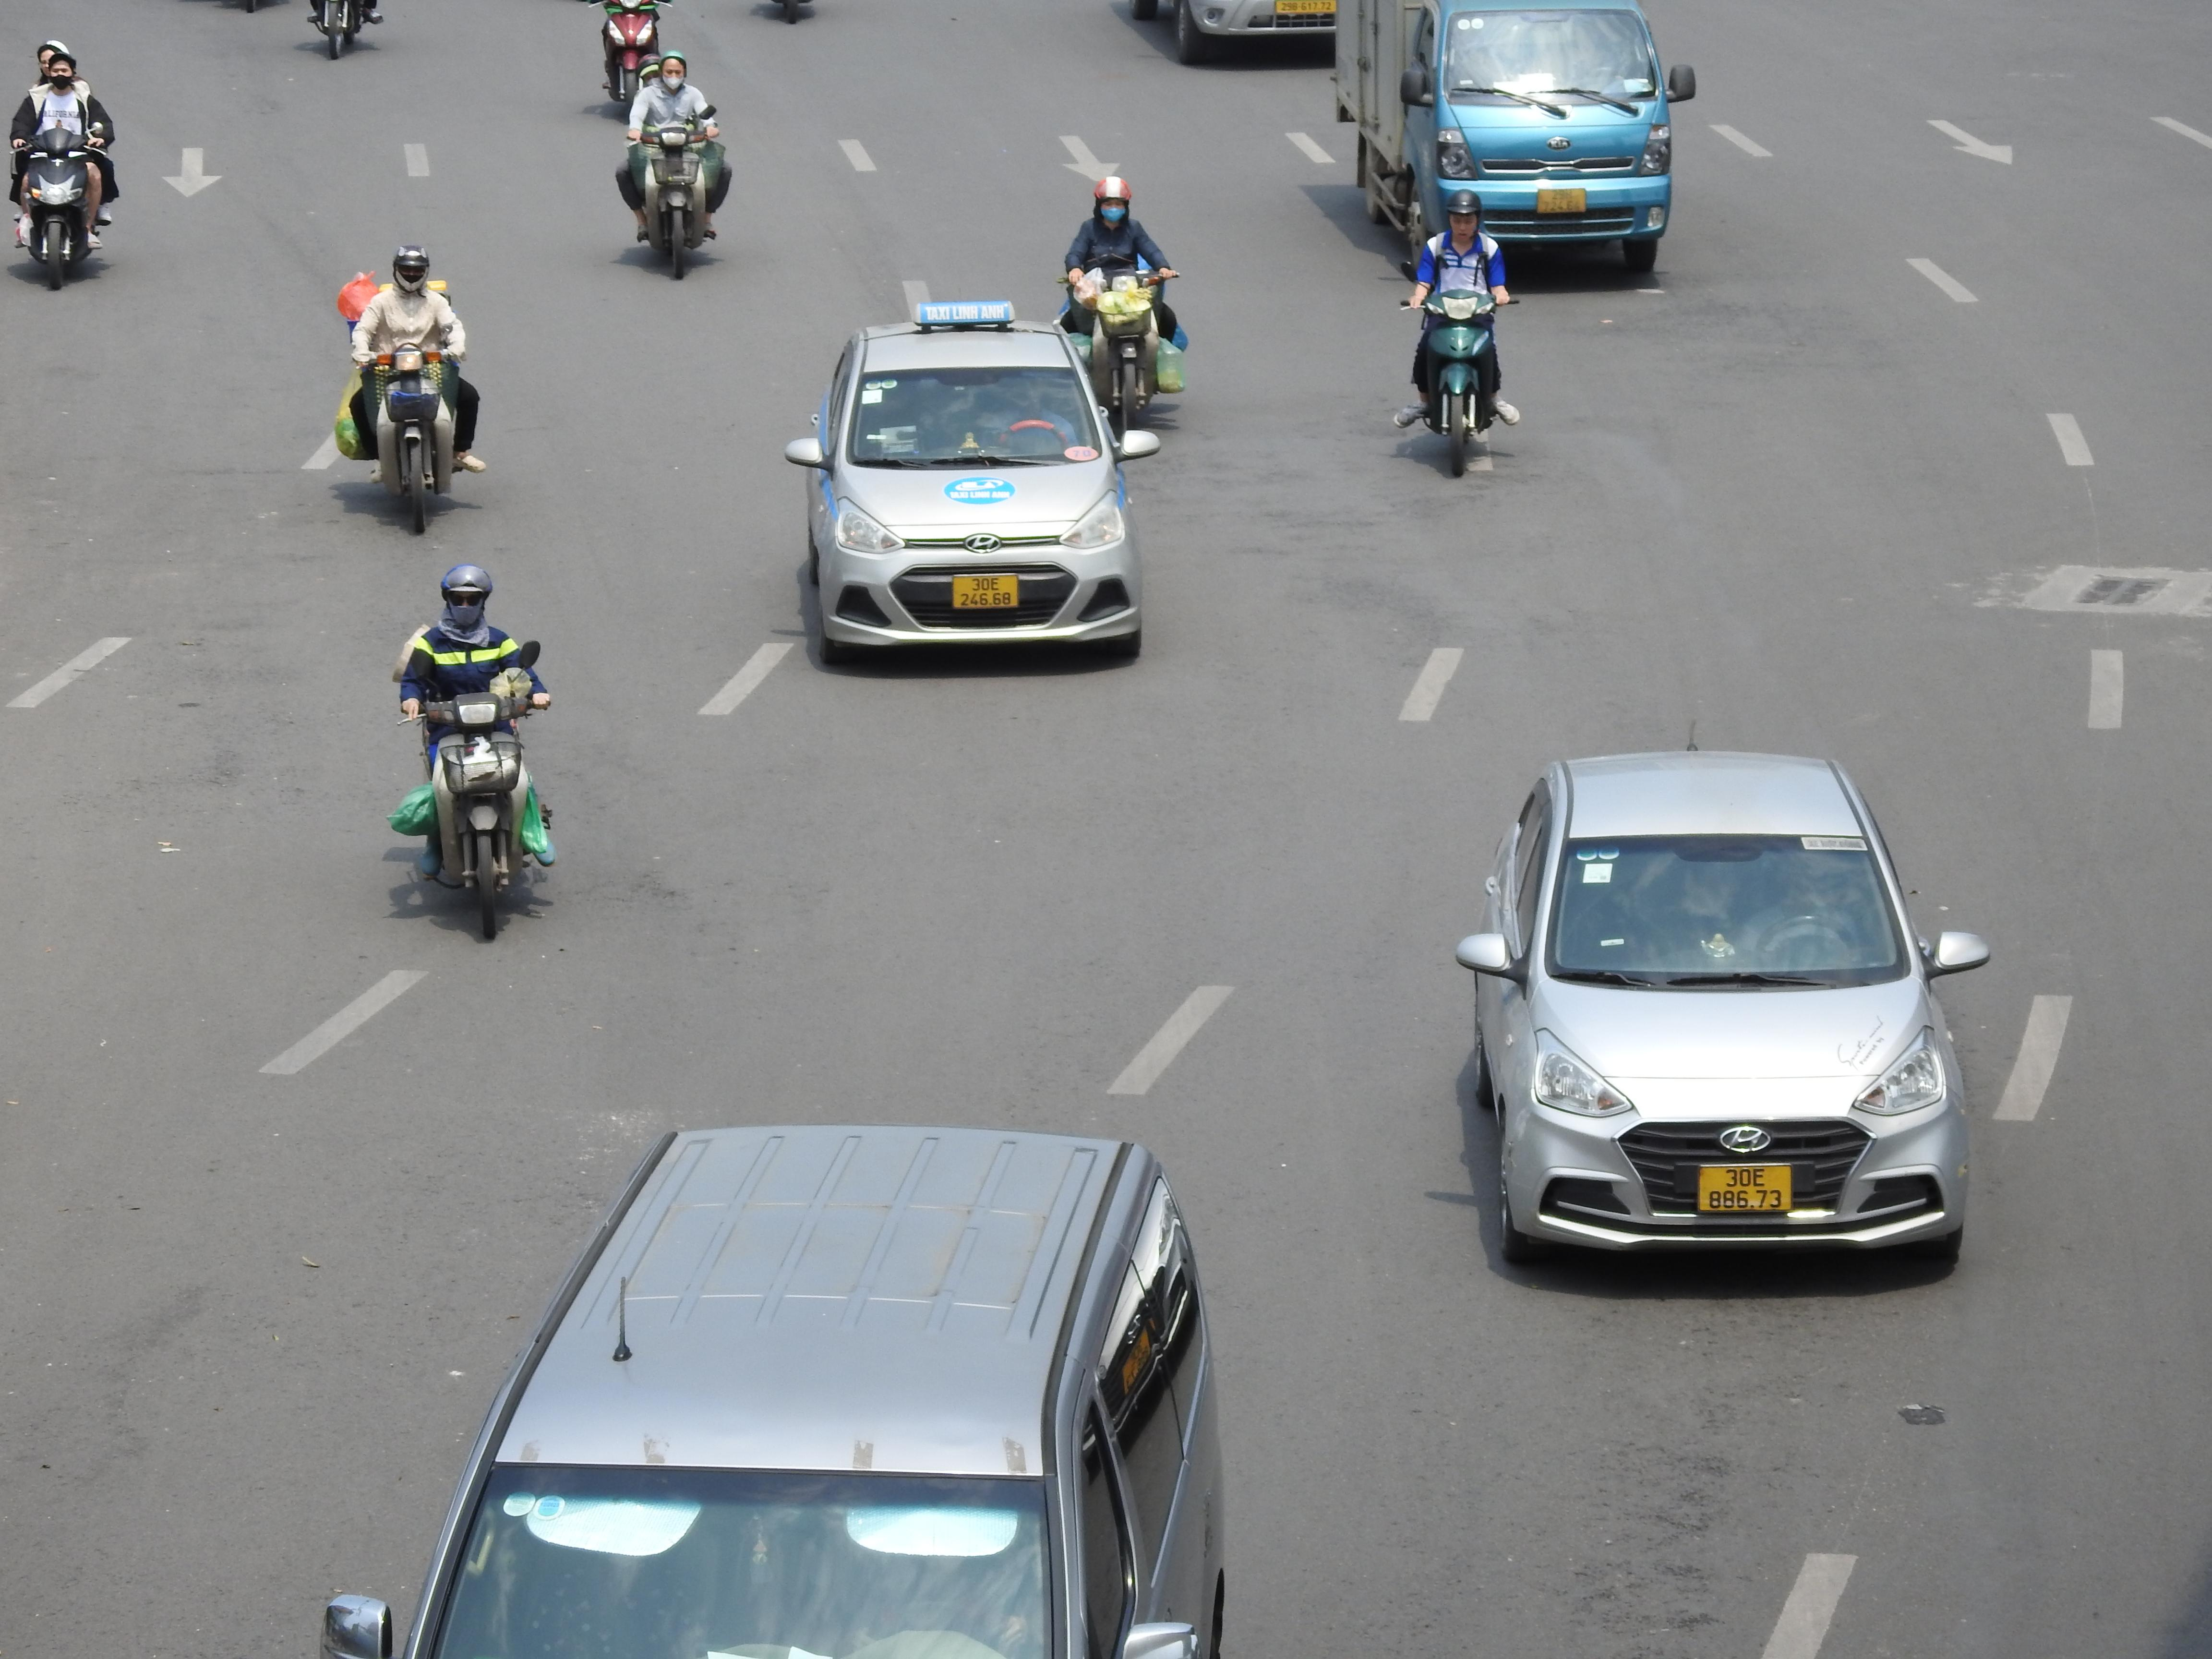BSD: (1275, 0, 1334, 14)
BSV: (1696, 1164, 1792, 1215), (951, 575, 1019, 610), (1536, 188, 1585, 214)
car: (317, 1119, 1238, 1659), (1451, 748, 1993, 1274), (782, 301, 1162, 669)
motorbike: (395, 559, 556, 945), (341, 240, 479, 537), (1057, 174, 1186, 437), (1400, 192, 1517, 479), (9, 42, 115, 291), (622, 51, 730, 279), (592, 0, 672, 112)
truck: (1334, 0, 1696, 274)
